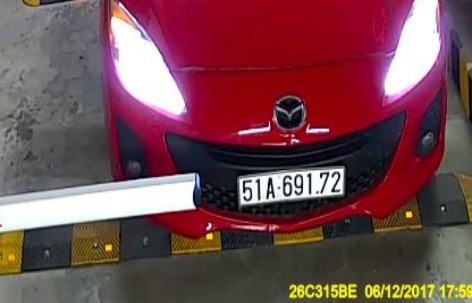plate: (231, 160, 349, 215)
